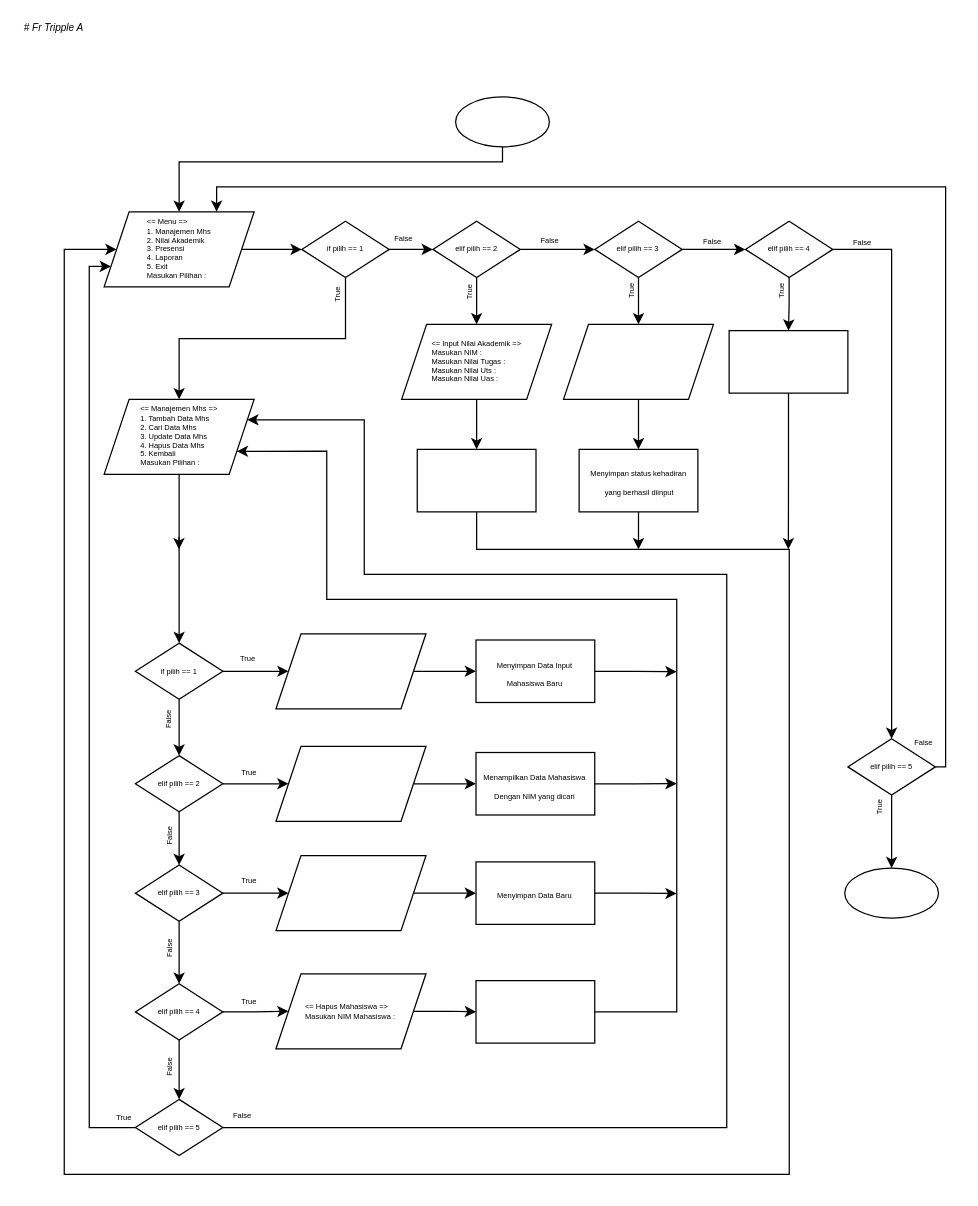
Some shapes in this 978 by 1206 pixel diagram are drawn without their labels. The shapes that lost their labels are listed below. From the top down, each one's centre as x and y in pixels, then its label:
the point at 501,121: Start
the point at 638,361: <= Presensi => Masukan pertemuan ke- : Input Status Kehadiran Mhs :
the point at 788,361: Menampilkan Seluruh Data Mahasiswa
the point at 476,480: Menyimpan Nilai Akademik yang berhasil diinput
the point at 350,670: <= Tambah Mahasiswa => Masukan NIM : Masukan Nama :
the point at 350,783: <= Cari Mahasiswa => Masukan NIM Mahasiswa :
the point at 350,892: <= Update Mahasiswa => Masukan NIM Mahasiswa : (Masukan Data Baru Sesuai)
the point at 891,892: End
the point at 535,1011: Menghapus Data Mahasiswa Dengan NIM yang diinput
